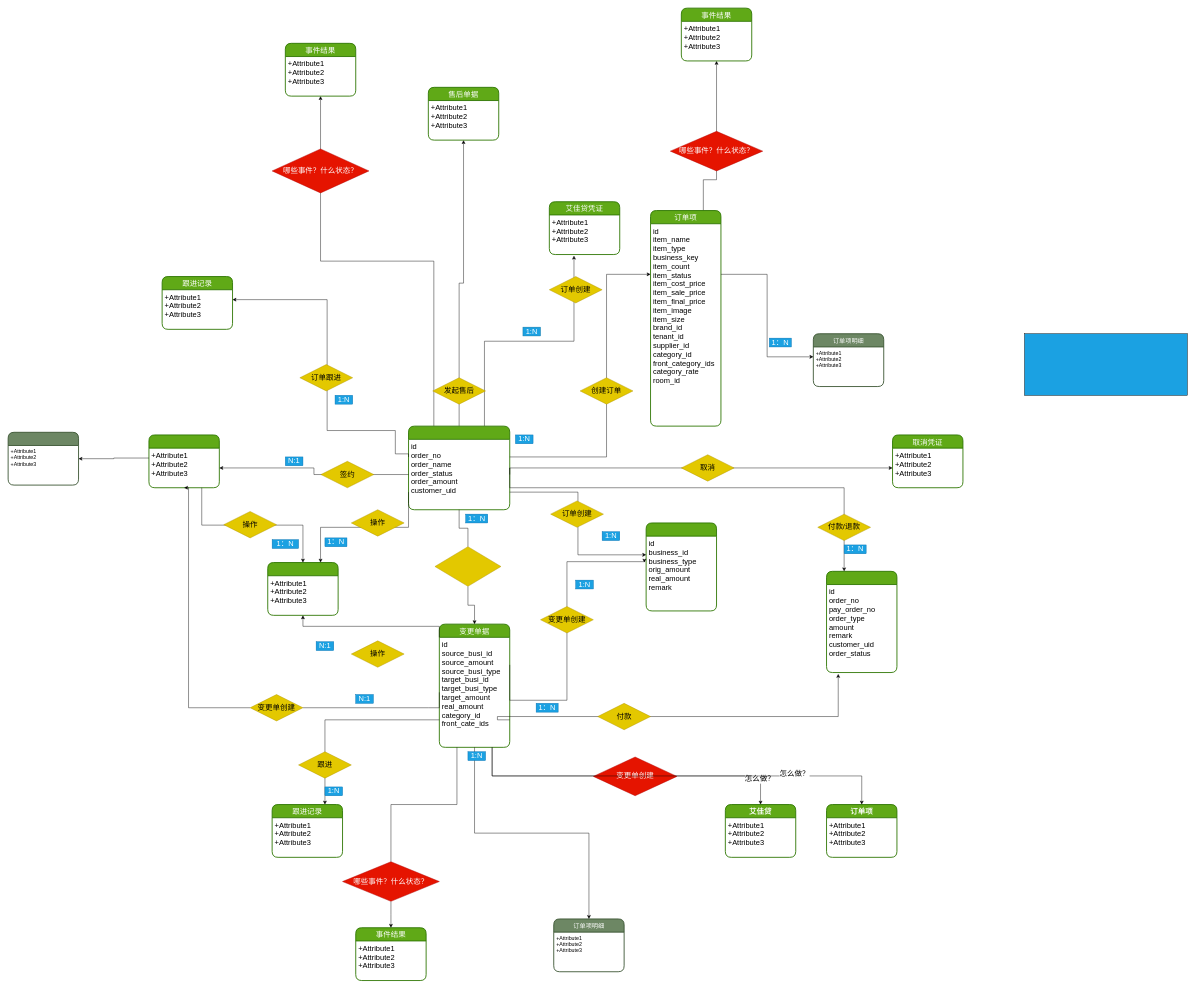
Some shapes in this 1195 by 988 pixel diagram are drawn without their labels. Each missing label, with the box of its shape:
合同: (148, 434, 220, 488)
合同明细: (7, 432, 79, 485)
操作记录: (267, 562, 338, 616)
款项凭证: (826, 571, 897, 673)
艾佳贷：是否要生成财务收款确认 类目调整：: (1024, 333, 1187, 395)
订单单据: (408, 425, 510, 510)
订单项变更 退，换，增: (434, 546, 501, 586)
费用清单: (645, 522, 717, 611)
